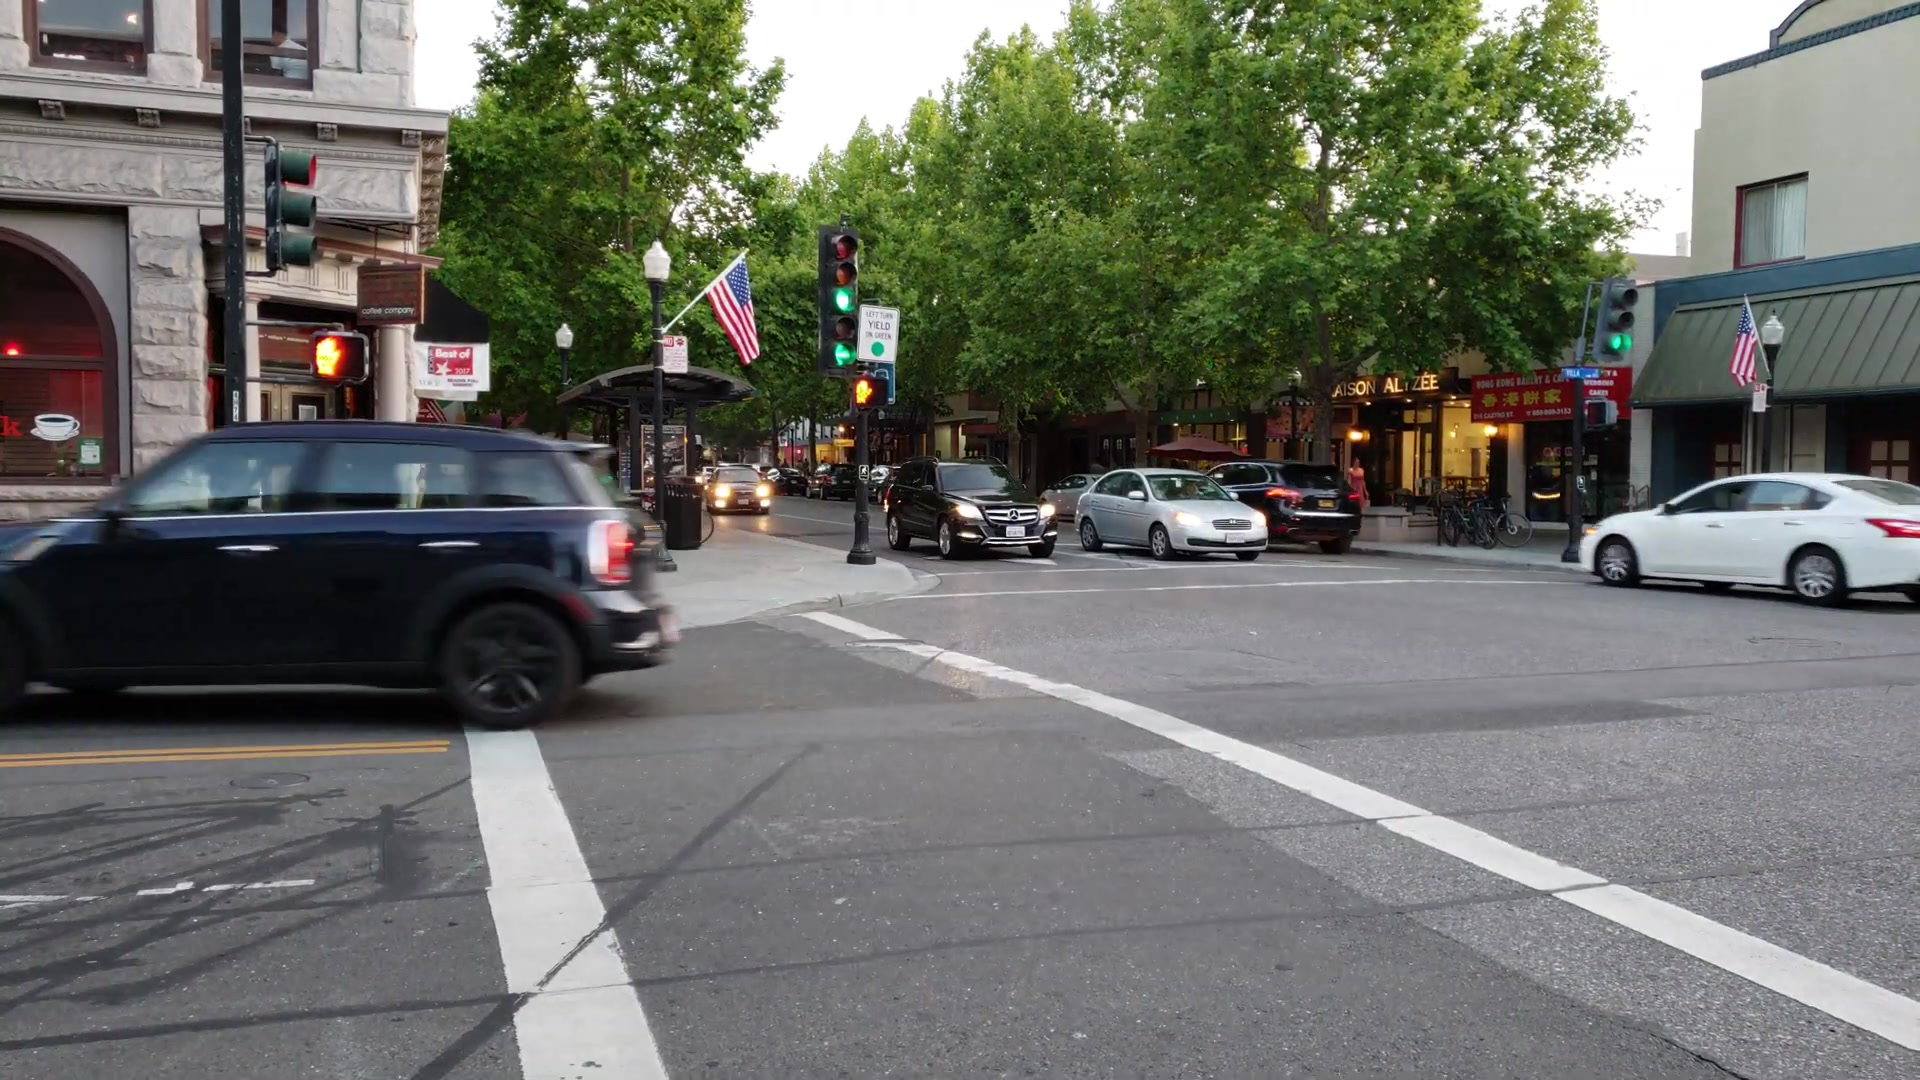vehicle: (7, 422, 678, 731), (1578, 471, 1917, 605), (1076, 467, 1269, 562), (886, 459, 1058, 556), (704, 464, 773, 516)
